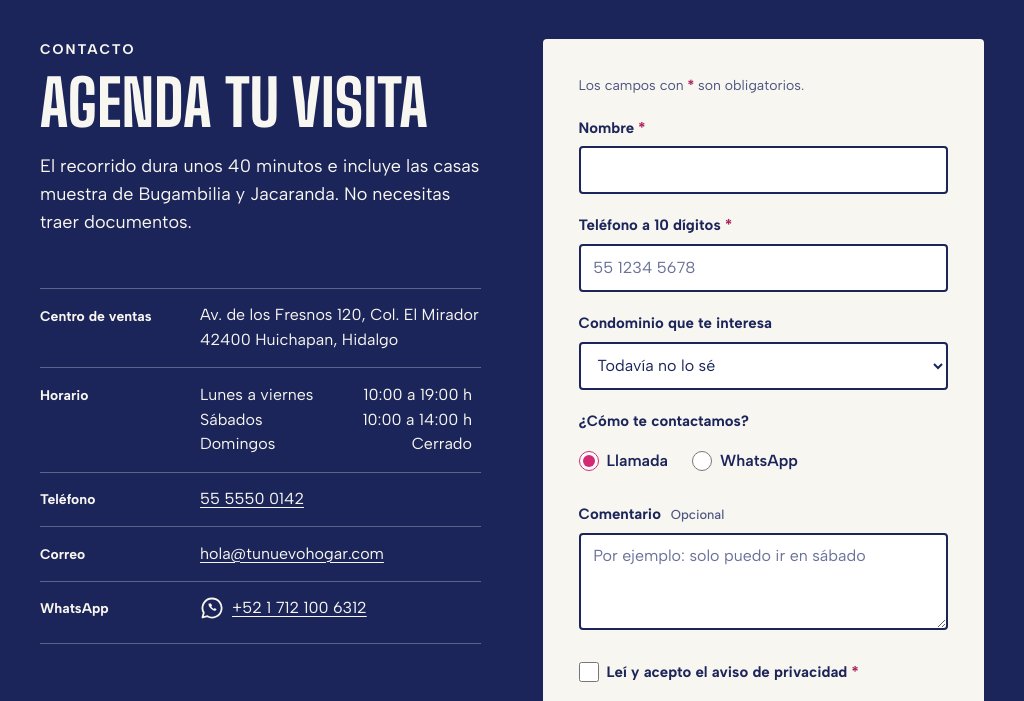
Test: Contact: validation › accepts the name "María-José Núñez"
The image size is (1024, 701).
Click the checkbox labelled "Leí y acepto el aviso de privacidad *".
click(588, 672)  # box left=578, top=662, right=598, bottom=682
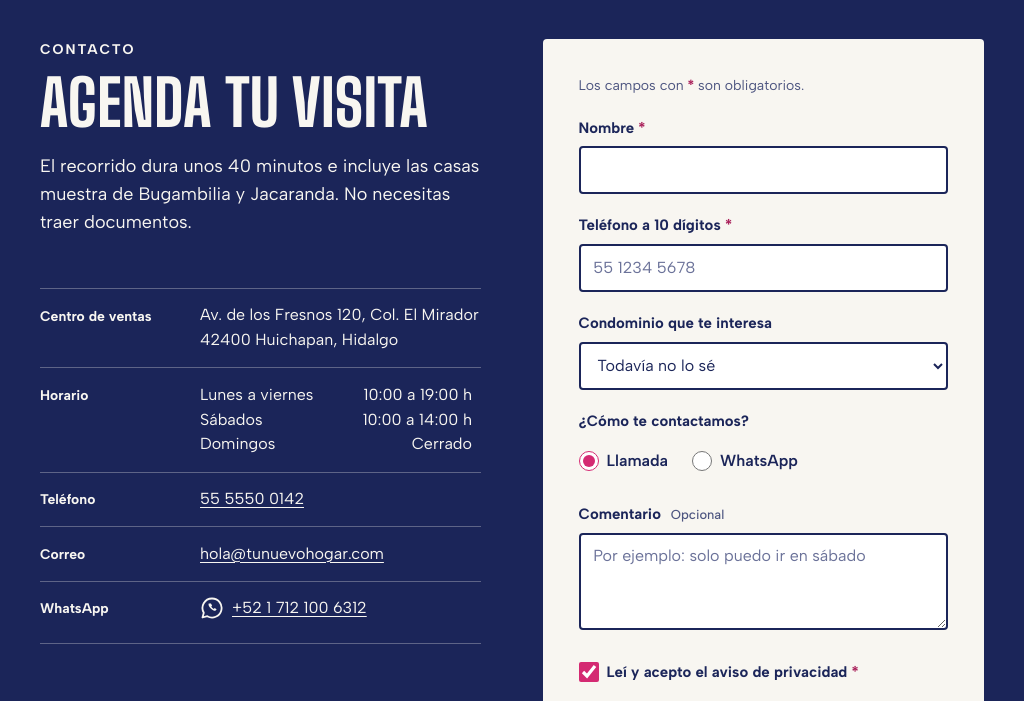
Type "María-José Núñez" into the field labelled "Nombre *".
click(763, 170); type("María-José Núñez")  # box left=578, top=146, right=948, bottom=194
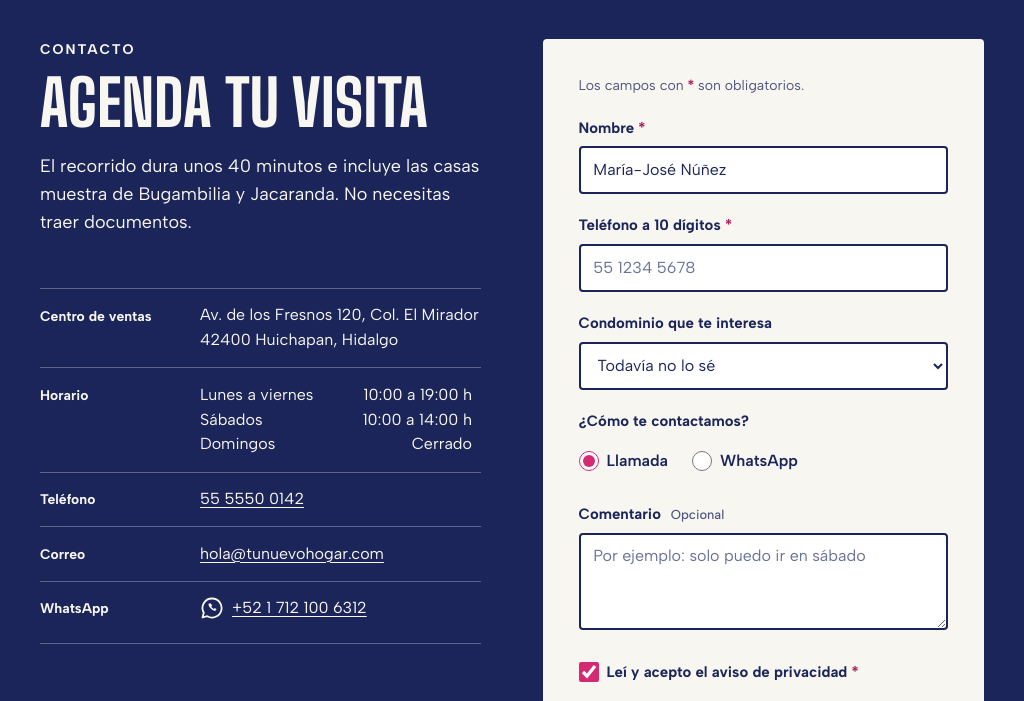
Type "5512345678" into the field labelled "Teléfono a 10 dígitos *".
click(763, 268); type("5512345678")  # box left=578, top=244, right=948, bottom=292
(page scrolled)
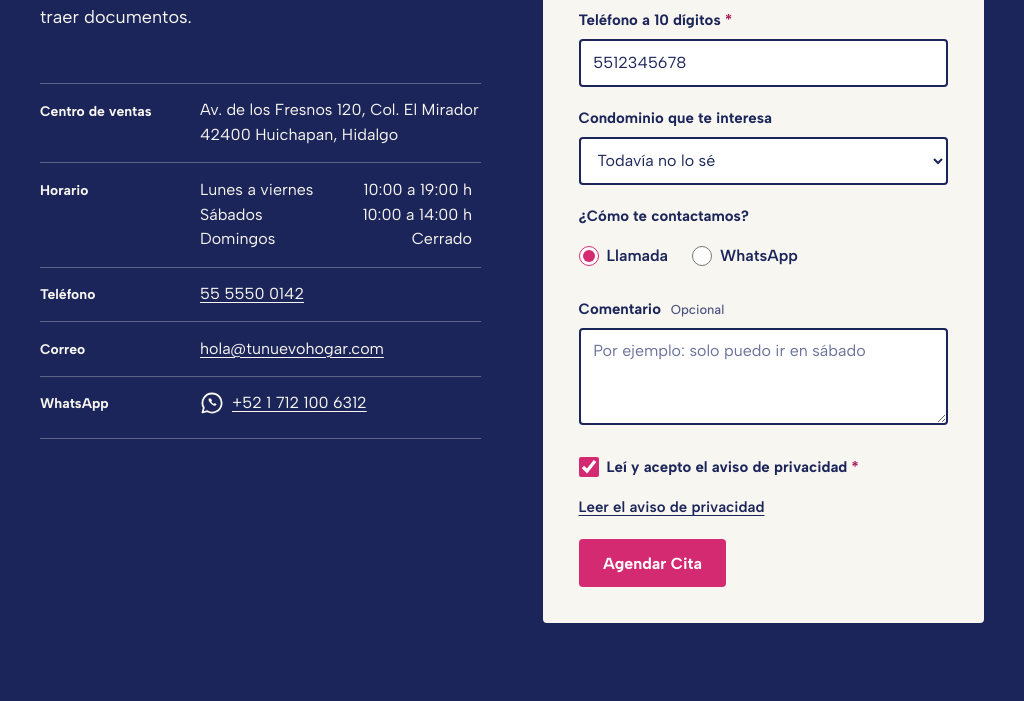
Click the button "Agendar Cita".
click(652, 563)  # box left=578, top=539, right=726, bottom=587
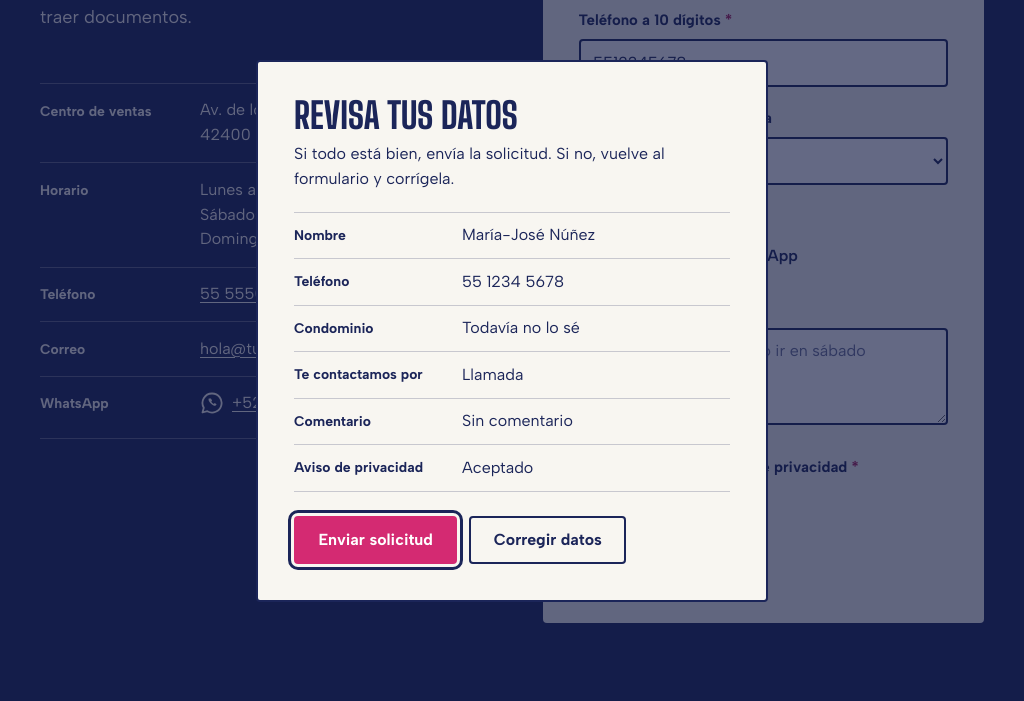
Expected: the text "María-José Núñez" is shown, left=462, top=225, right=595, bottom=244
